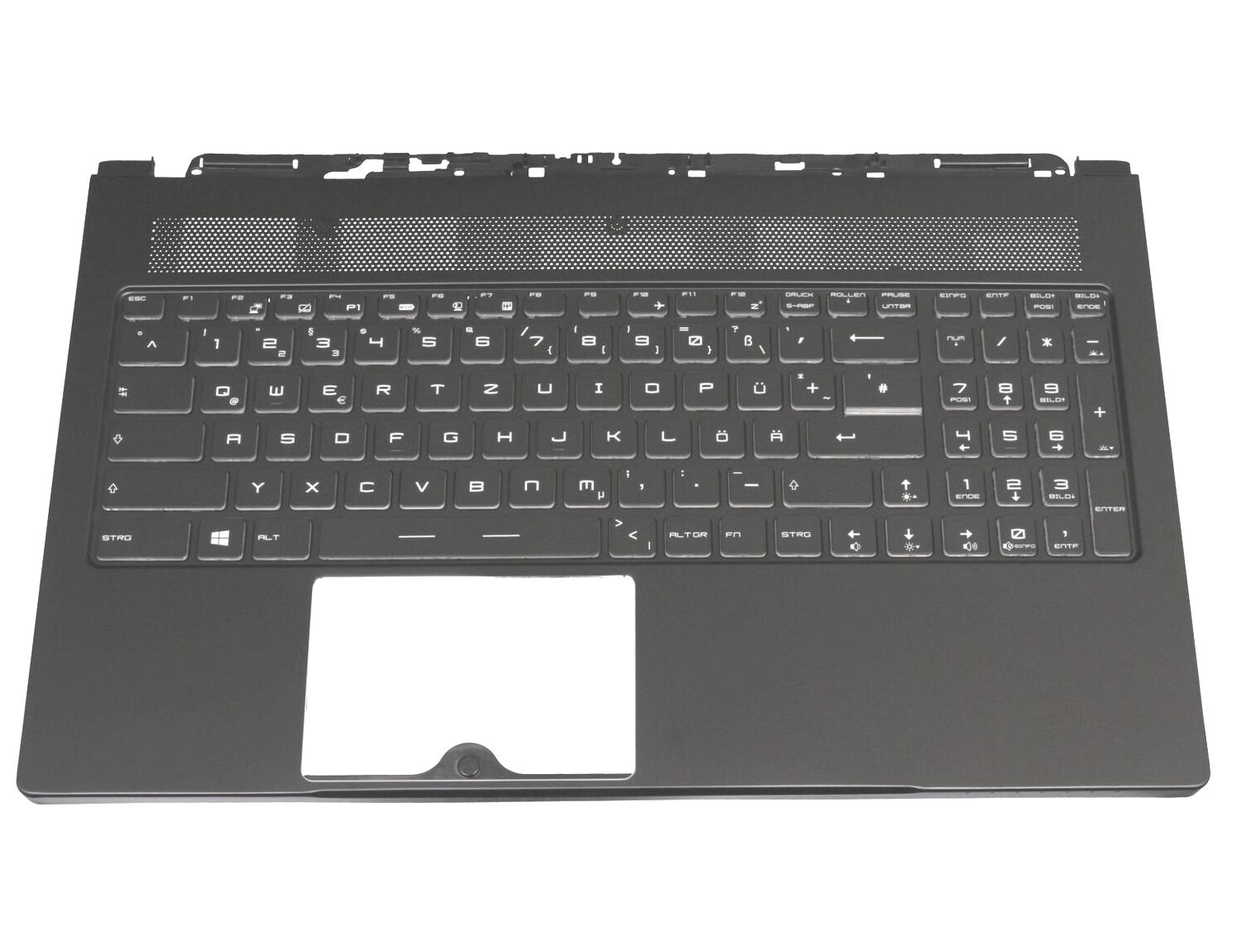0: (670, 318, 716, 359)
1: (190, 319, 239, 363)
2: (244, 319, 291, 363)
3: (297, 318, 345, 363)
4: (351, 319, 398, 361)
5: (403, 317, 451, 361)
6: (457, 316, 504, 361)
7: (510, 319, 558, 360)
8: (564, 318, 610, 360)
9: (616, 316, 664, 360)
a: (207, 413, 257, 458)
accent: (776, 317, 822, 359)
ae: (750, 411, 798, 456)
alt-left: (248, 510, 310, 558)
altgr-right: (662, 508, 713, 556)
b: (450, 461, 500, 506)
c: (340, 462, 391, 506)
caret: (113, 320, 186, 362)
comma: (615, 461, 664, 505)
d: (315, 411, 365, 458)
del: (828, 314, 918, 359)
e: (304, 364, 353, 410)
enter: (803, 409, 923, 455)
f: (371, 412, 418, 457)
g: (424, 411, 472, 457)
h: (478, 411, 527, 457)
hash: (841, 362, 921, 406)
i: (573, 361, 620, 406)
j: (533, 411, 581, 457)
k: (586, 409, 636, 456)
keyboard: (79, 270, 1150, 575)
l: (641, 410, 689, 456)
less: (605, 510, 656, 557)
m: (559, 459, 609, 506)
minus: (723, 461, 773, 505)
n: (505, 460, 555, 505)
o: (625, 363, 674, 407)
oe: (695, 411, 744, 456)
p: (680, 363, 727, 406)
plus: (787, 363, 835, 406)
point: (670, 462, 718, 504)
q: (195, 364, 246, 411)
r: (358, 363, 405, 410)
s: (261, 412, 310, 458)
shift-left: (98, 458, 228, 508)
shift-lock: (103, 411, 201, 458)
shift-right: (779, 456, 873, 505)
space: (313, 508, 604, 558)
ss: (722, 317, 769, 359)
strg-left: (88, 508, 192, 560)
strg-right: (773, 510, 824, 555)
t: (412, 362, 459, 409)
tab: (108, 363, 192, 411)
u: (519, 362, 567, 409)
ue: (733, 362, 780, 407)
v: (396, 462, 446, 506)
w: (250, 363, 299, 411)
x: (287, 462, 337, 507)
y: (232, 463, 281, 507)
z: (465, 362, 514, 409)
